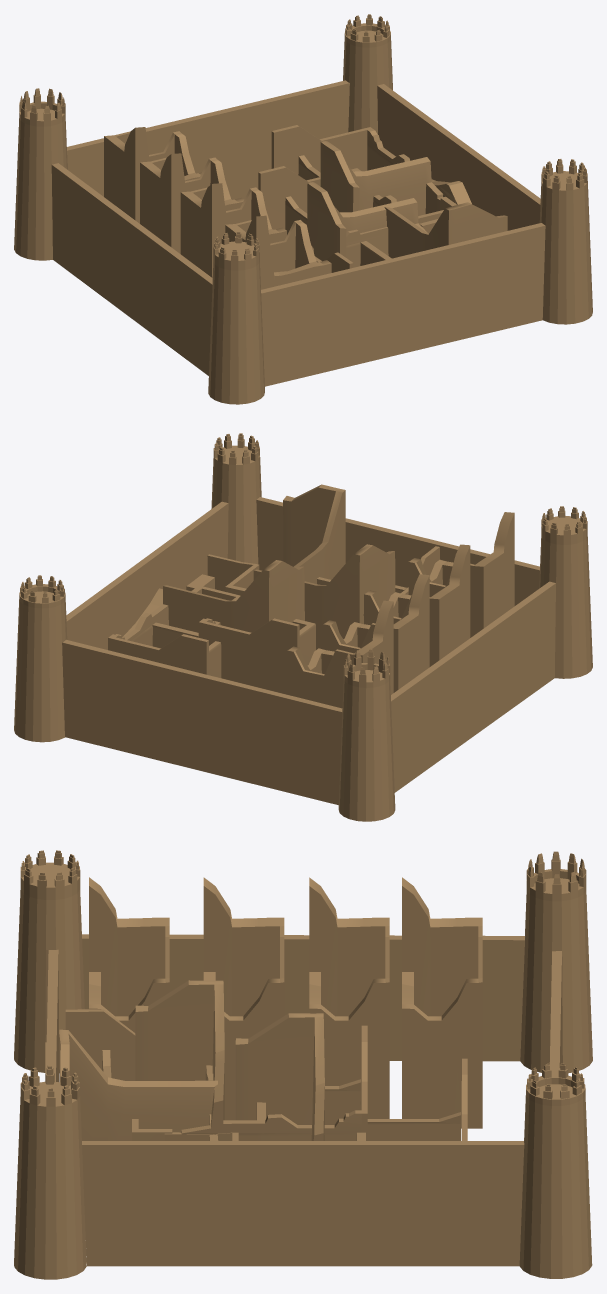
Rendered from masmak_999.fbx.
3 views of the same model, one above another, from view 1: azimuth 30°, elevation 25°; view 2: azimuth 150°, elevation 25°; view 3: azimuth 270°, elevation 25° (orthographic). The views are drawn at different scales.
Visible parts, largest first — view 1: pCylinder5, pCube2, pCube5, pCube6, pCube8, pCube7, pCube9, pCube4, pCube1; view 2: pCylinder5, pCube5, pCube2, pCube6, pCube4, pCube7, pCube9, pCube8, pCube1; view 3: pCylinder5, pCube9, pCube5, pCube8, pCube2, pCube6, pCube7, pCube4.
Part boxes in pixels (bbox=[...]): pCylinder5: bbox=[14, 14, 592, 404]; pCube2: bbox=[271, 125, 456, 223]; pCube5: bbox=[258, 166, 427, 261]; pCube6: bbox=[311, 202, 507, 272]; pCube8: bbox=[140, 153, 244, 253]; pCube7: bbox=[180, 183, 286, 277]; pCube9: bbox=[104, 127, 201, 223]; pCube4: bbox=[225, 215, 331, 289]; pCube1: bbox=[431, 179, 471, 204]; pCylinder5: bbox=[14, 433, 592, 821]; pCube5: bbox=[198, 544, 395, 694]; pCube2: bbox=[108, 560, 304, 677]; pCube6: bbox=[207, 484, 439, 649]; pCube4: bbox=[408, 512, 514, 637]; pCube7: bbox=[364, 544, 470, 666]; pCube9: bbox=[287, 600, 393, 708]; pCube8: bbox=[323, 574, 429, 692]; pCube1: bbox=[123, 574, 214, 636]; pCylinder5: bbox=[14, 850, 592, 1279]; pCube9: bbox=[402, 877, 482, 1128]; pCube5: bbox=[132, 980, 367, 1140]; pCube8: bbox=[309, 877, 389, 1118]; pCube2: bbox=[164, 1013, 467, 1140]; pCube6: bbox=[59, 1009, 218, 1140]; pCube7: bbox=[203, 877, 284, 1120]; pCube4: bbox=[89, 877, 169, 1032].
Bounding box in the file's own units: 24.16 × 9.68 × 24.9.
